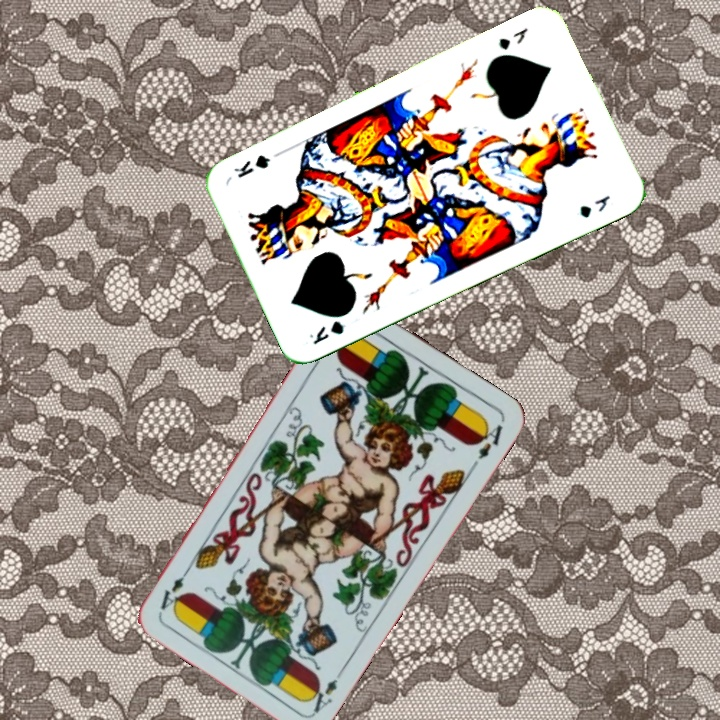EA: (303, 663, 348, 716)
GK: (305, 316, 347, 348), (494, 23, 531, 53)
